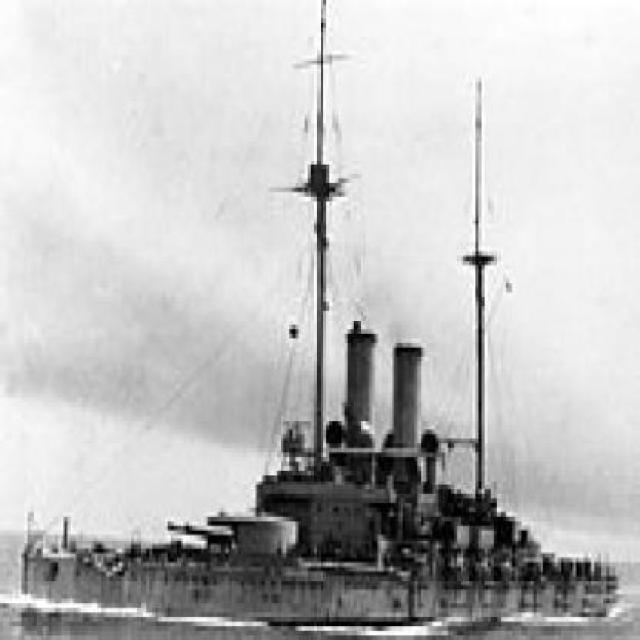warship2: (17, 6, 626, 632)
